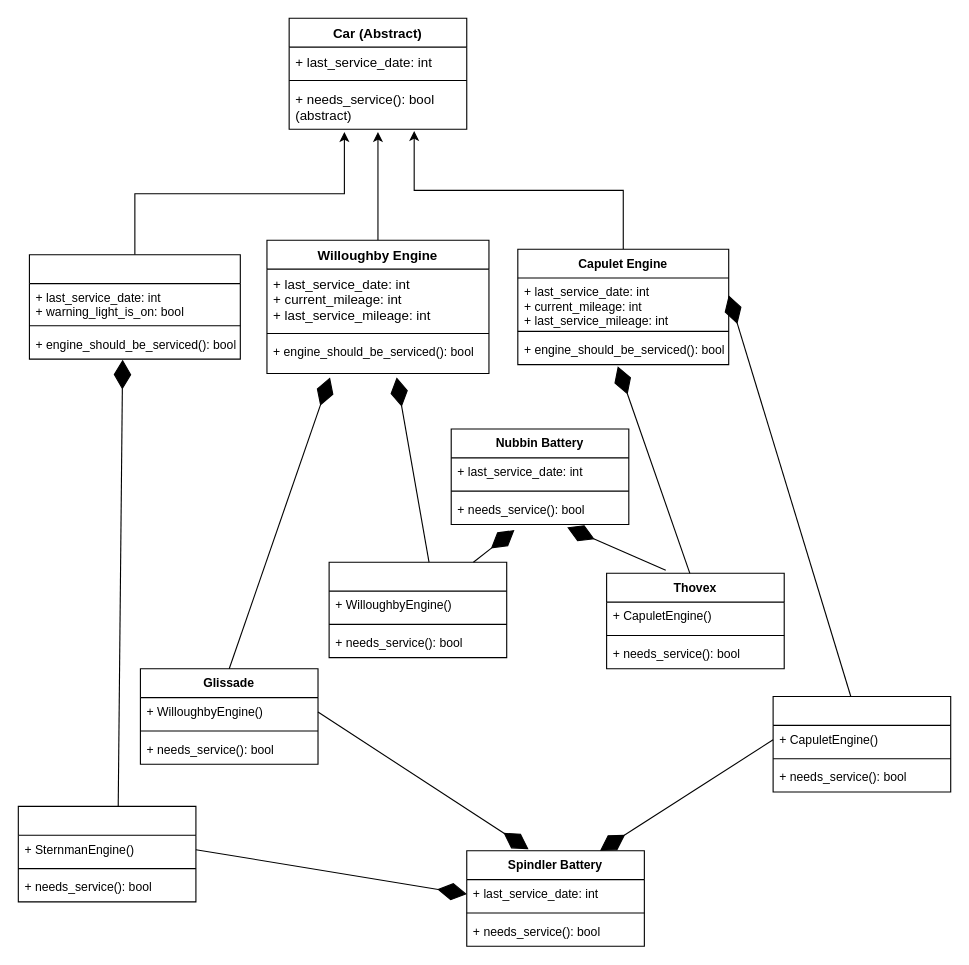
Some shapes in this 969 by 965 pixel diagram are drawn without their labels. The shapes that lost their labels are listed below. From the top down, each one's box as (x1, y1, x2, y2) in pixels, then its label:
(28, 254, 240, 359): Sternman Engine
(328, 561, 507, 658): Rorschach
(772, 695, 951, 792): Calliope
(17, 805, 196, 902): Palindrome
